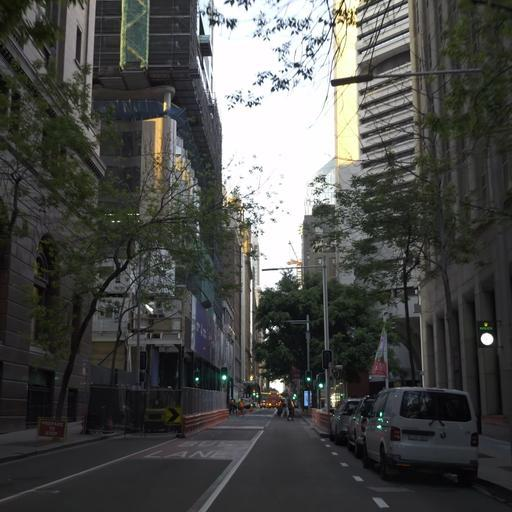Street light: (261, 261, 330, 409), (330, 66, 483, 86), (284, 314, 312, 407), (219, 366, 227, 382)
